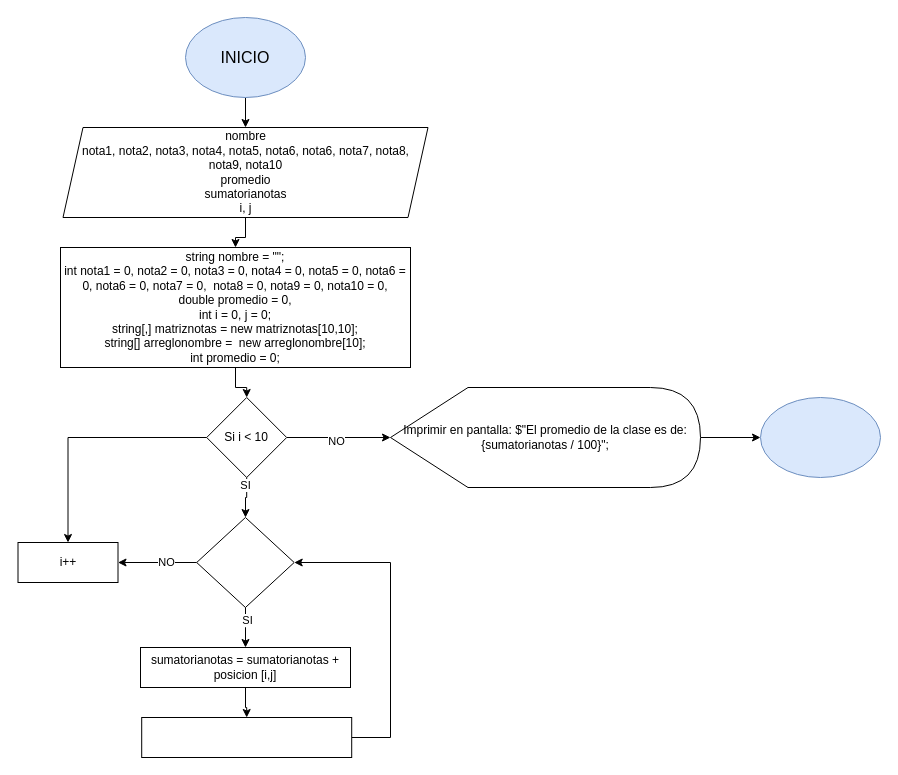
Some shapes in this 898 by 775 pixel diagram are drawn without their labels. The shapes that lost their labels are listed below. From the top down, each one's centre as x and y in pixels, then its label:
At pixel 820 437: "FIN".
At pixel 245 562: "Si j < 10".
At pixel 246 737: "j++".
